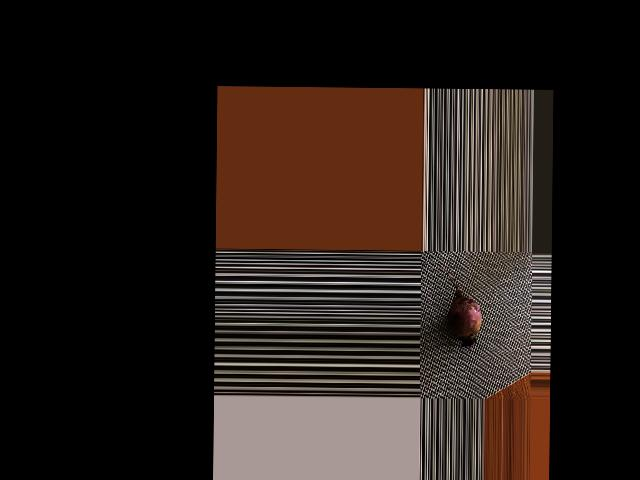beet: (433, 261, 481, 349)
